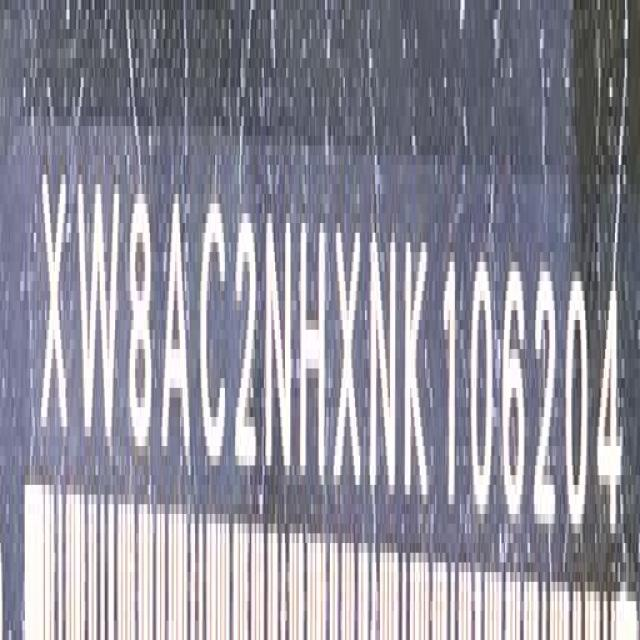0: (562, 266, 590, 538), (472, 266, 494, 517)
1: (441, 266, 462, 517)
2: (232, 219, 262, 481), (532, 266, 558, 535)
4: (596, 287, 624, 535)
6: (500, 259, 528, 535)
8: (126, 198, 156, 456)
A: (160, 194, 194, 470)
C: (198, 198, 229, 478)
H: (299, 219, 329, 474)
K: (401, 234, 431, 496)
N: (367, 219, 398, 496), (264, 201, 294, 481)
W: (75, 165, 119, 453)
X: (334, 205, 364, 488), (40, 158, 69, 438)
